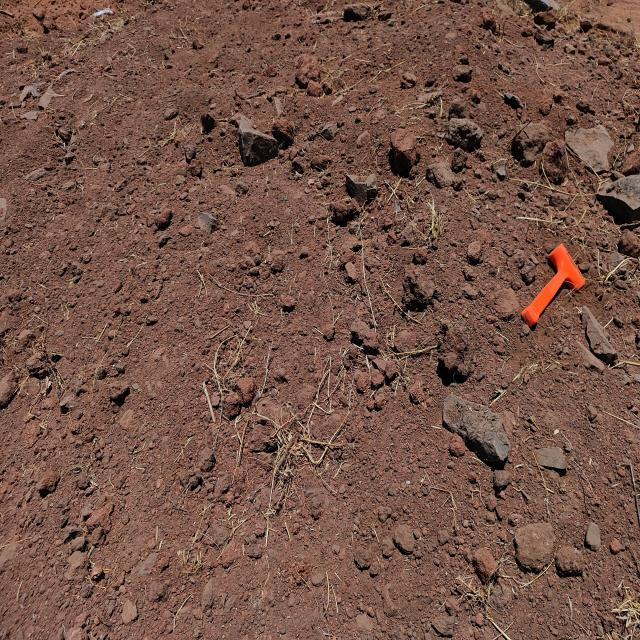Orange_hammer: (520, 242, 585, 328)
